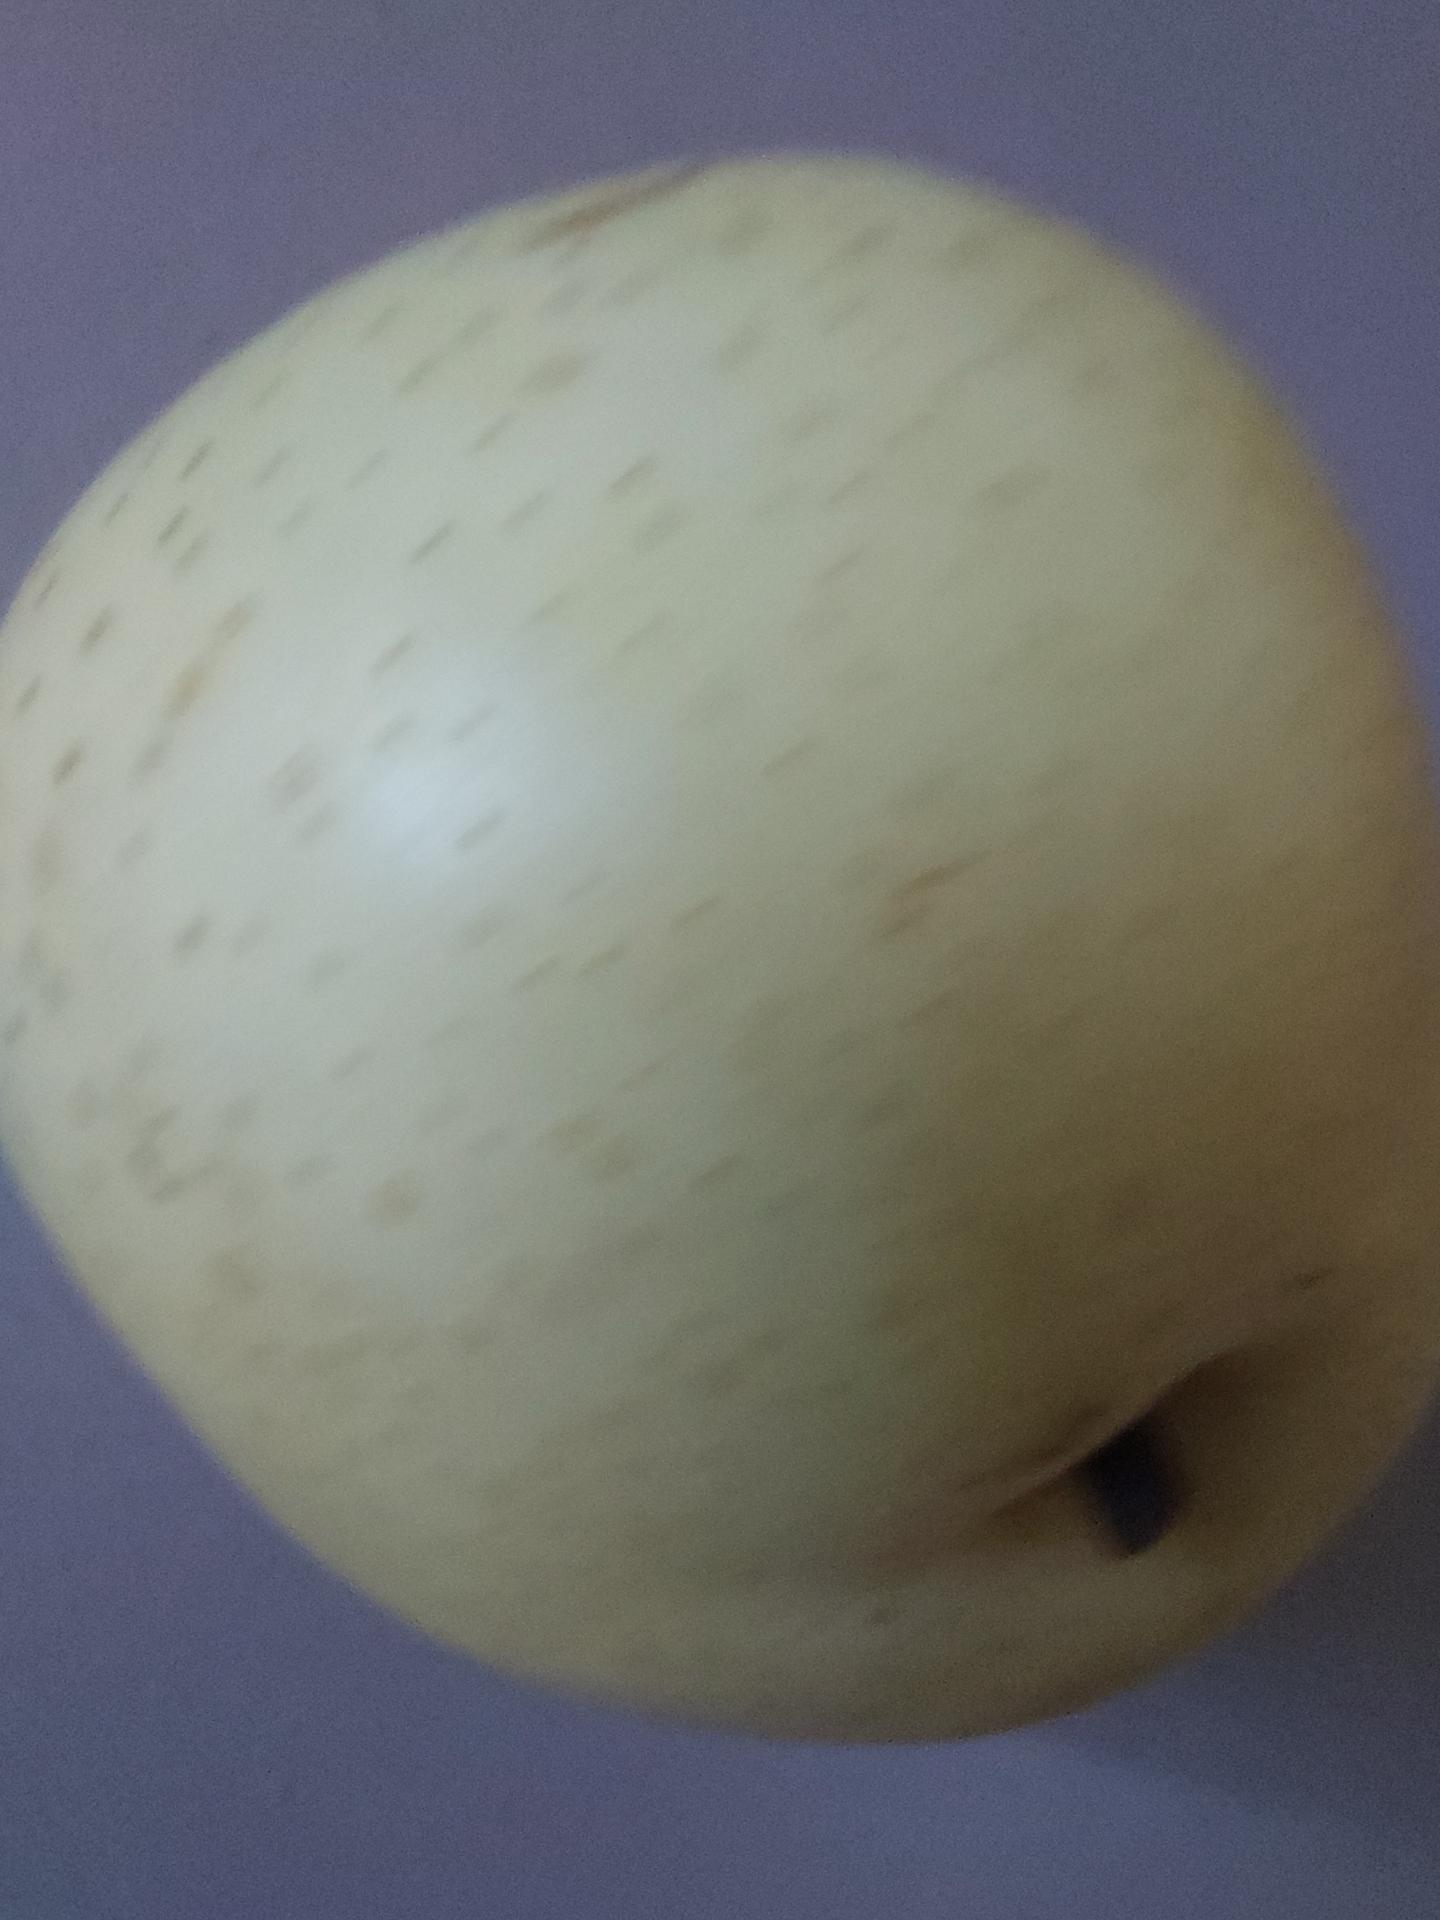Good Pear: (0, 80, 1440, 1801)
